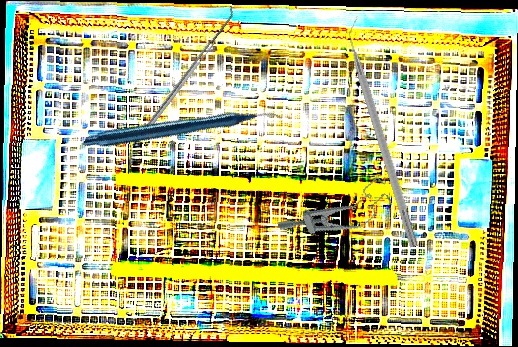Chopper: (340, 15, 431, 248)
Handpiece: (82, 40, 283, 222)
Spatula Surgical: (142, 5, 239, 128)
Speculum: (274, 174, 399, 254)
